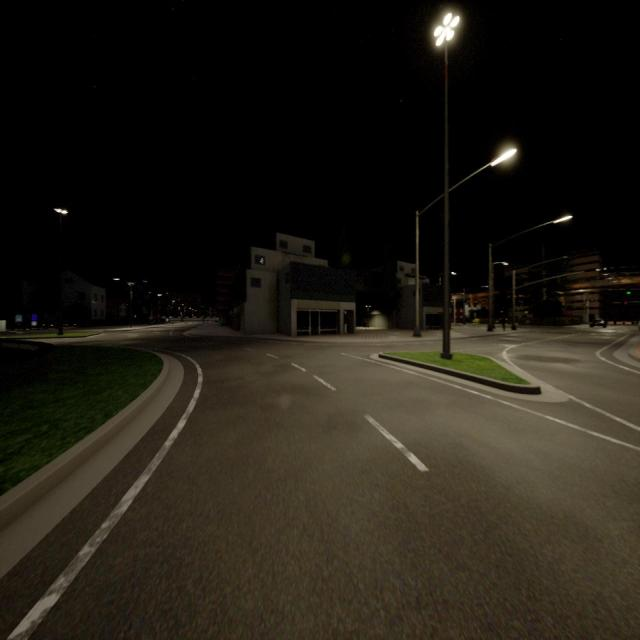Vehicle: (591, 319, 606, 328)
traffic_light: (626, 292, 631, 294)
